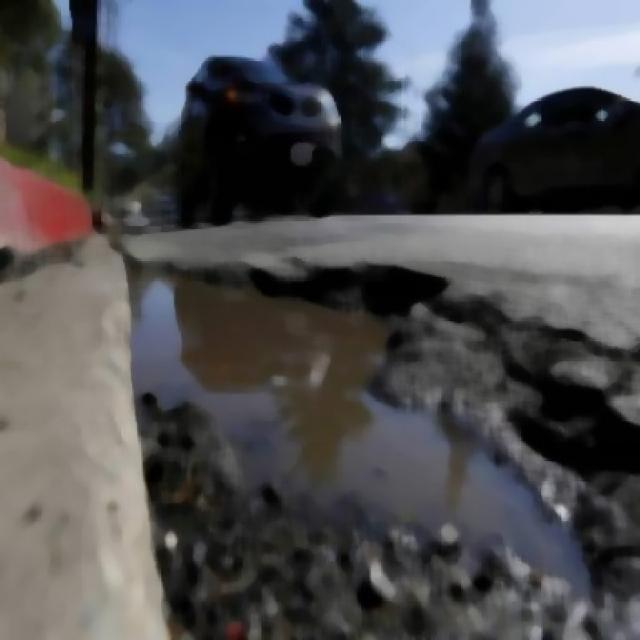Pothole: (120, 257, 602, 638)
